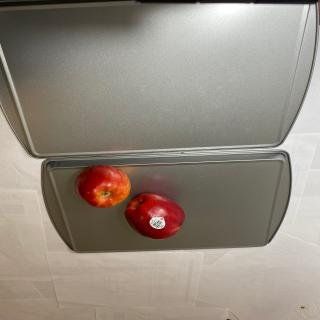Apple: (124, 193, 186, 240), (75, 164, 131, 208)
